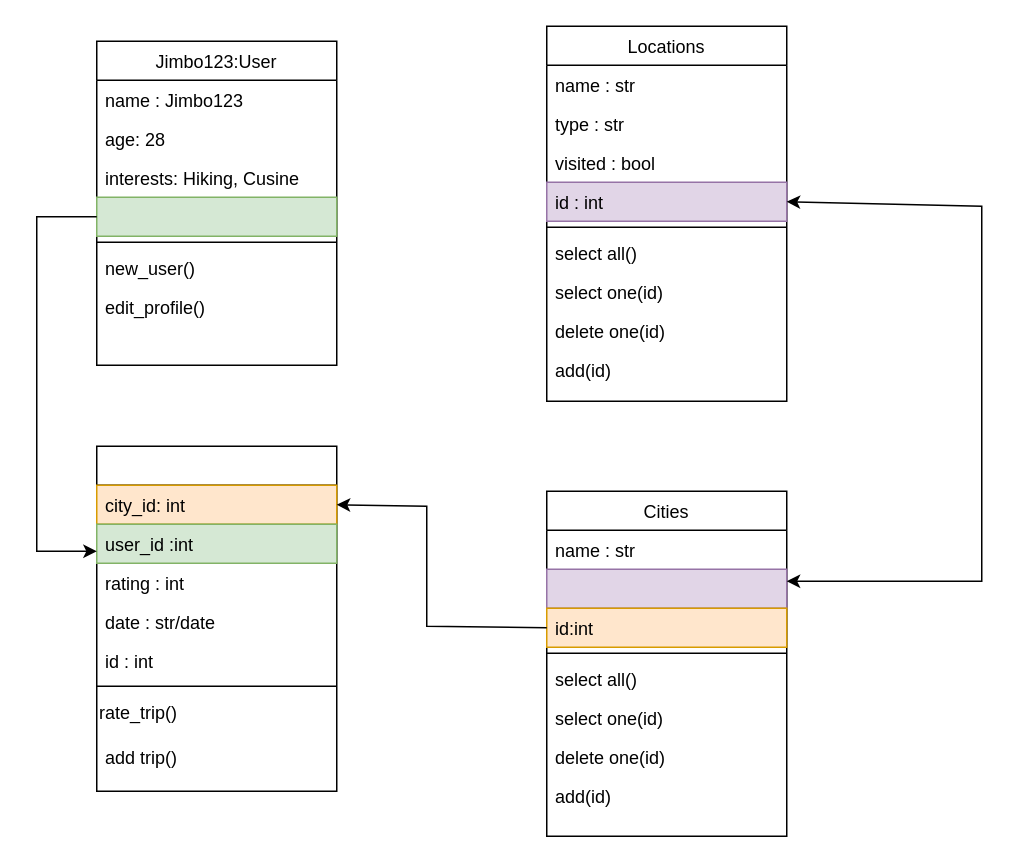
This 1022x863 diagram has some shape labels left out. Each missing label, with the box of its shape:
country : str: (545, 568, 787, 608)
id:1: (95, 196, 337, 236)
Trips: (95, 445, 337, 791)
